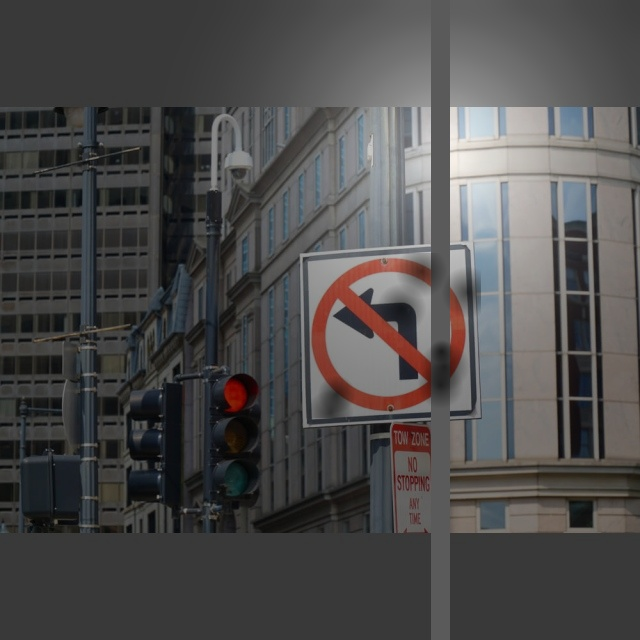Left_Turn_Prohibited: (302, 253, 481, 418)
